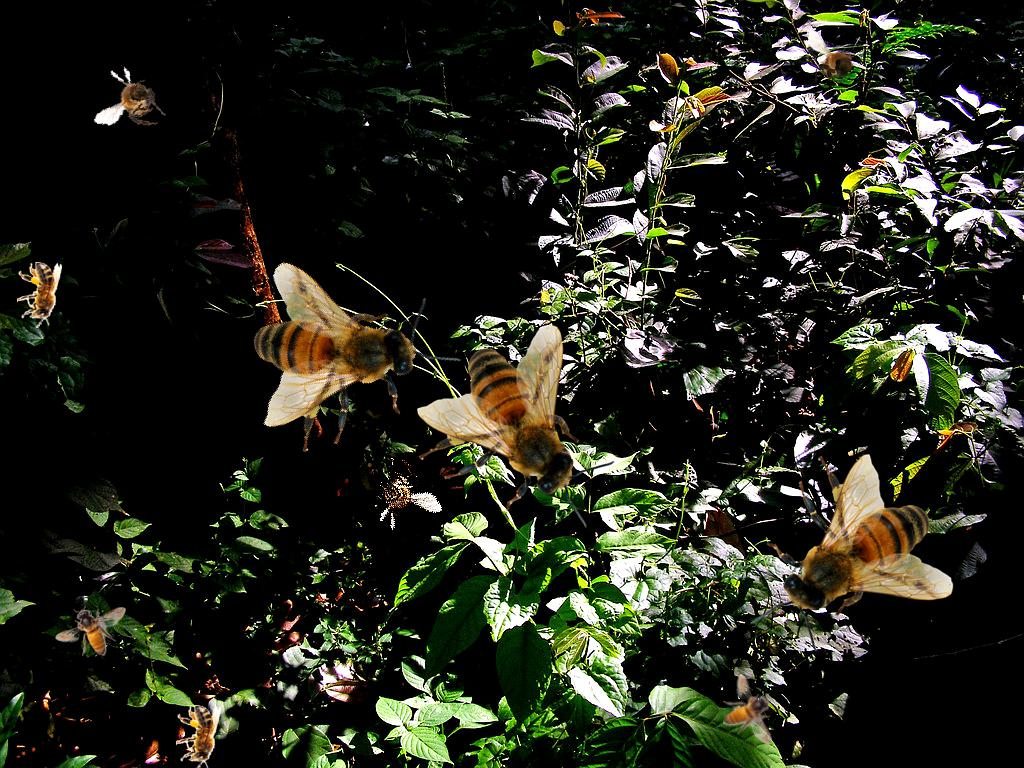Bee: (196, 214, 479, 496), (750, 454, 954, 653), (417, 324, 616, 528), (355, 448, 444, 540), (93, 62, 174, 136), (807, 28, 868, 98), (55, 606, 126, 656), (723, 674, 773, 745), (17, 262, 62, 328), (176, 705, 221, 768)
